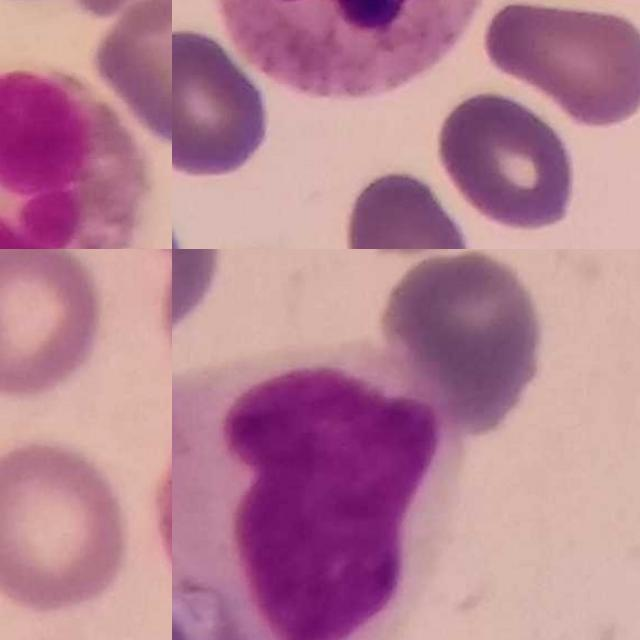Eosinophil: (0, 65, 152, 249)
Monocyte: (172, 350, 470, 640)
Neutrophil: (211, 0, 484, 95)
